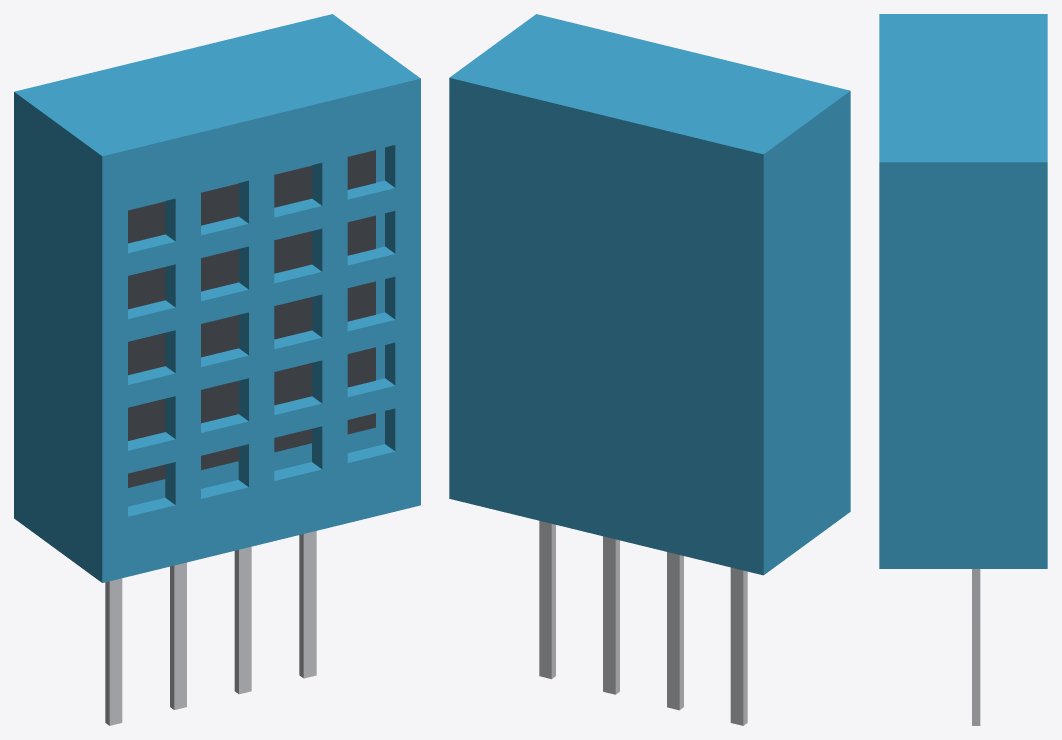
Rendered from dht11.glb.
3 renders of one model, left to right at view 1: azimuth 30°, elevation 25°; view 2: azimuth 150°, elevation 25°; view 3: azimuth 270°, elevation 25°, orthographic. The views are drawn at different scales.
Visible parts, largest first — view 1: Viền và khe gió, Vỏ sau, Lòng vỏ, Chân 4, Chân 1, Chân 3, Chân 2; view 2: Vỏ sau, Viền và khe gió, Chân 1, Chân 4, Chân 2, Chân 3; view 3: Vỏ sau, Viền và khe gió, Chân 4.
Boxes of the visible parts, <box> form: Viền và khe gió: <box>92,71,420,582</box>; Vỏ sau: <box>14,14,409,575</box>; Lòng vỏ: <box>128,150,375,487</box>; Chân 4: <box>299,531,316,678</box>; Chân 1: <box>105,578,122,725</box>; Chân 3: <box>234,546,251,694</box>; Chân 2: <box>170,562,186,709</box>; Vỏ sau: <box>449,21,840,575</box>; Viền và khe gió: <box>526,14,850,518</box>; Chân 1: <box>730,567,747,725</box>; Chân 4: <box>539,521,555,679</box>; Chân 2: <box>667,552,683,710</box>; Chân 3: <box>603,536,619,694</box>; Vỏ sau: <box>899,14,1047,568</box>; Viền và khe gió: <box>879,14,898,568</box>; Chân 4: <box>972,569,980,725</box>.
Bounding box in the file's own units: 0.0125 × 0.0232 × 0.006.
